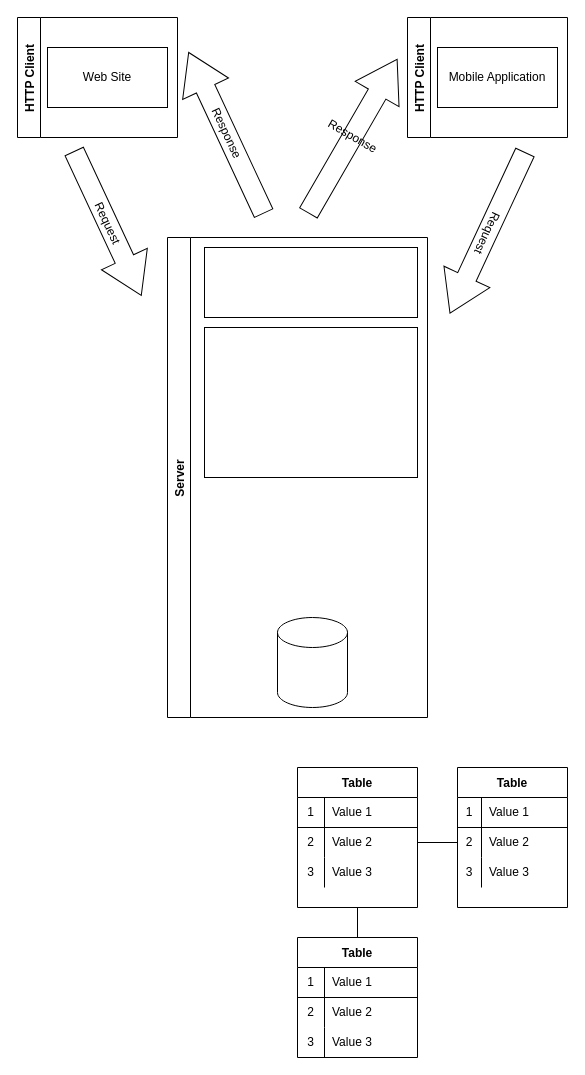
This 585x1075 diagram has some shape labels left out. Here are the shapes that lost their labels. From the top down, the box of each, then its label:
(204, 246, 418, 318): HTTP Server (IIS, Apache)
(204, 326, 418, 478): Application Server
(276, 616, 348, 708): News Database
